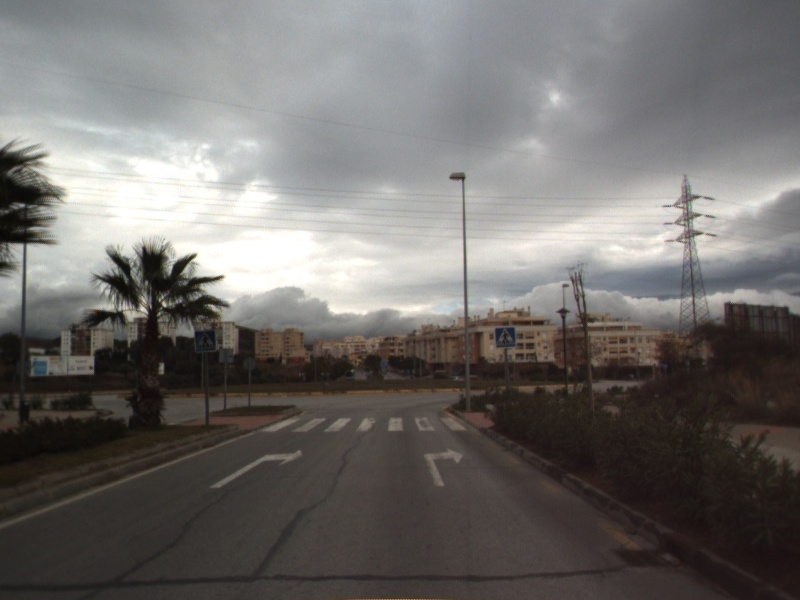RIGHT: (207, 447, 305, 490), (422, 446, 466, 488)
